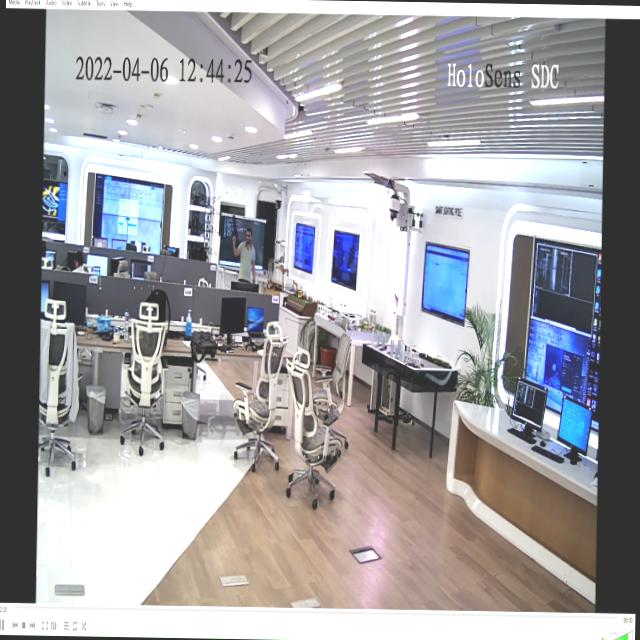long weapon: (228, 212, 240, 246)
